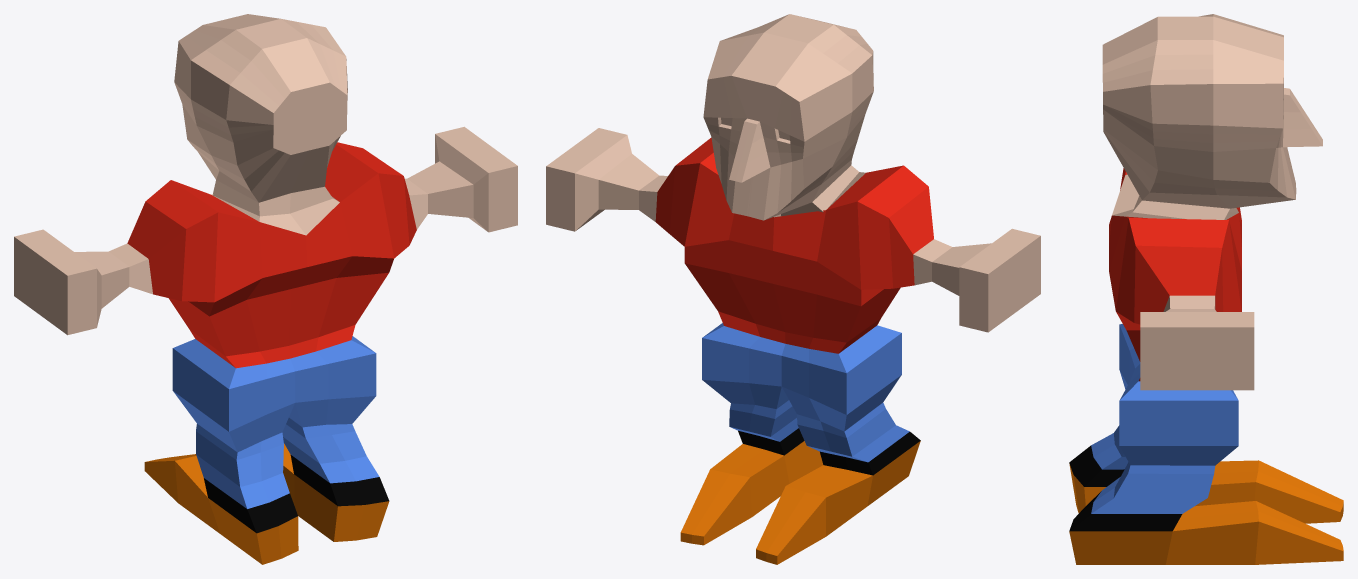
The model's file is blankblockodeform.fbx.
3 views of the same model, side by side, from view 1: azimuth 30°, elevation 25°; view 2: azimuth 150°, elevation 25°; view 3: azimuth 270°, elevation 25° (orthographic). The views are drawn at different scales.
Visible parts, largest first — view 1: blockman; view 2: blockman; view 3: blockman.
Boxes of the visible parts, x1=… form: blockman: x1=14, y1=14, x2=517, y2=564; blockman: x1=546, y1=14, x2=1040, y2=564; blockman: x1=1069, y1=14, x2=1343, y2=564.
Bounding box in the file's own units: 420 × 427 × 209.
